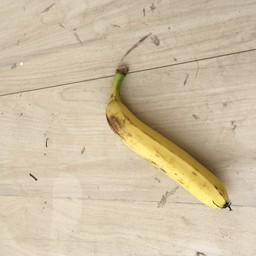Banana Ripe: (81, 63, 244, 230)
